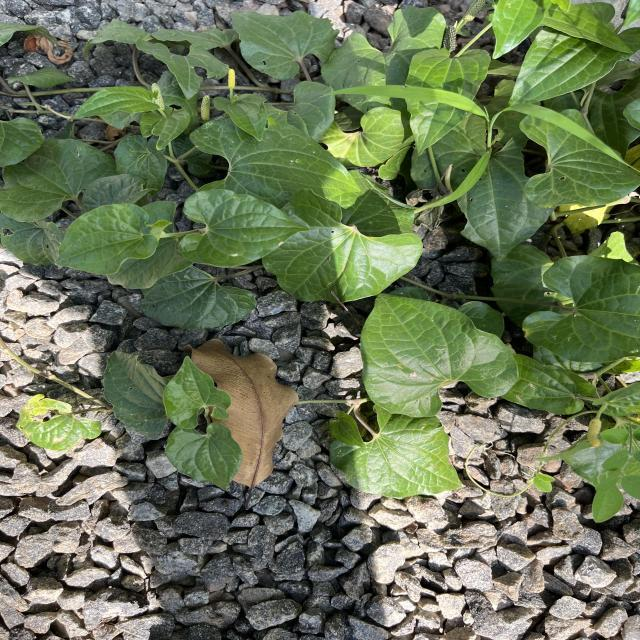Piper longum: (358, 292, 522, 419), (260, 187, 424, 305), (328, 408, 468, 500), (164, 421, 244, 493), (162, 354, 234, 430)
